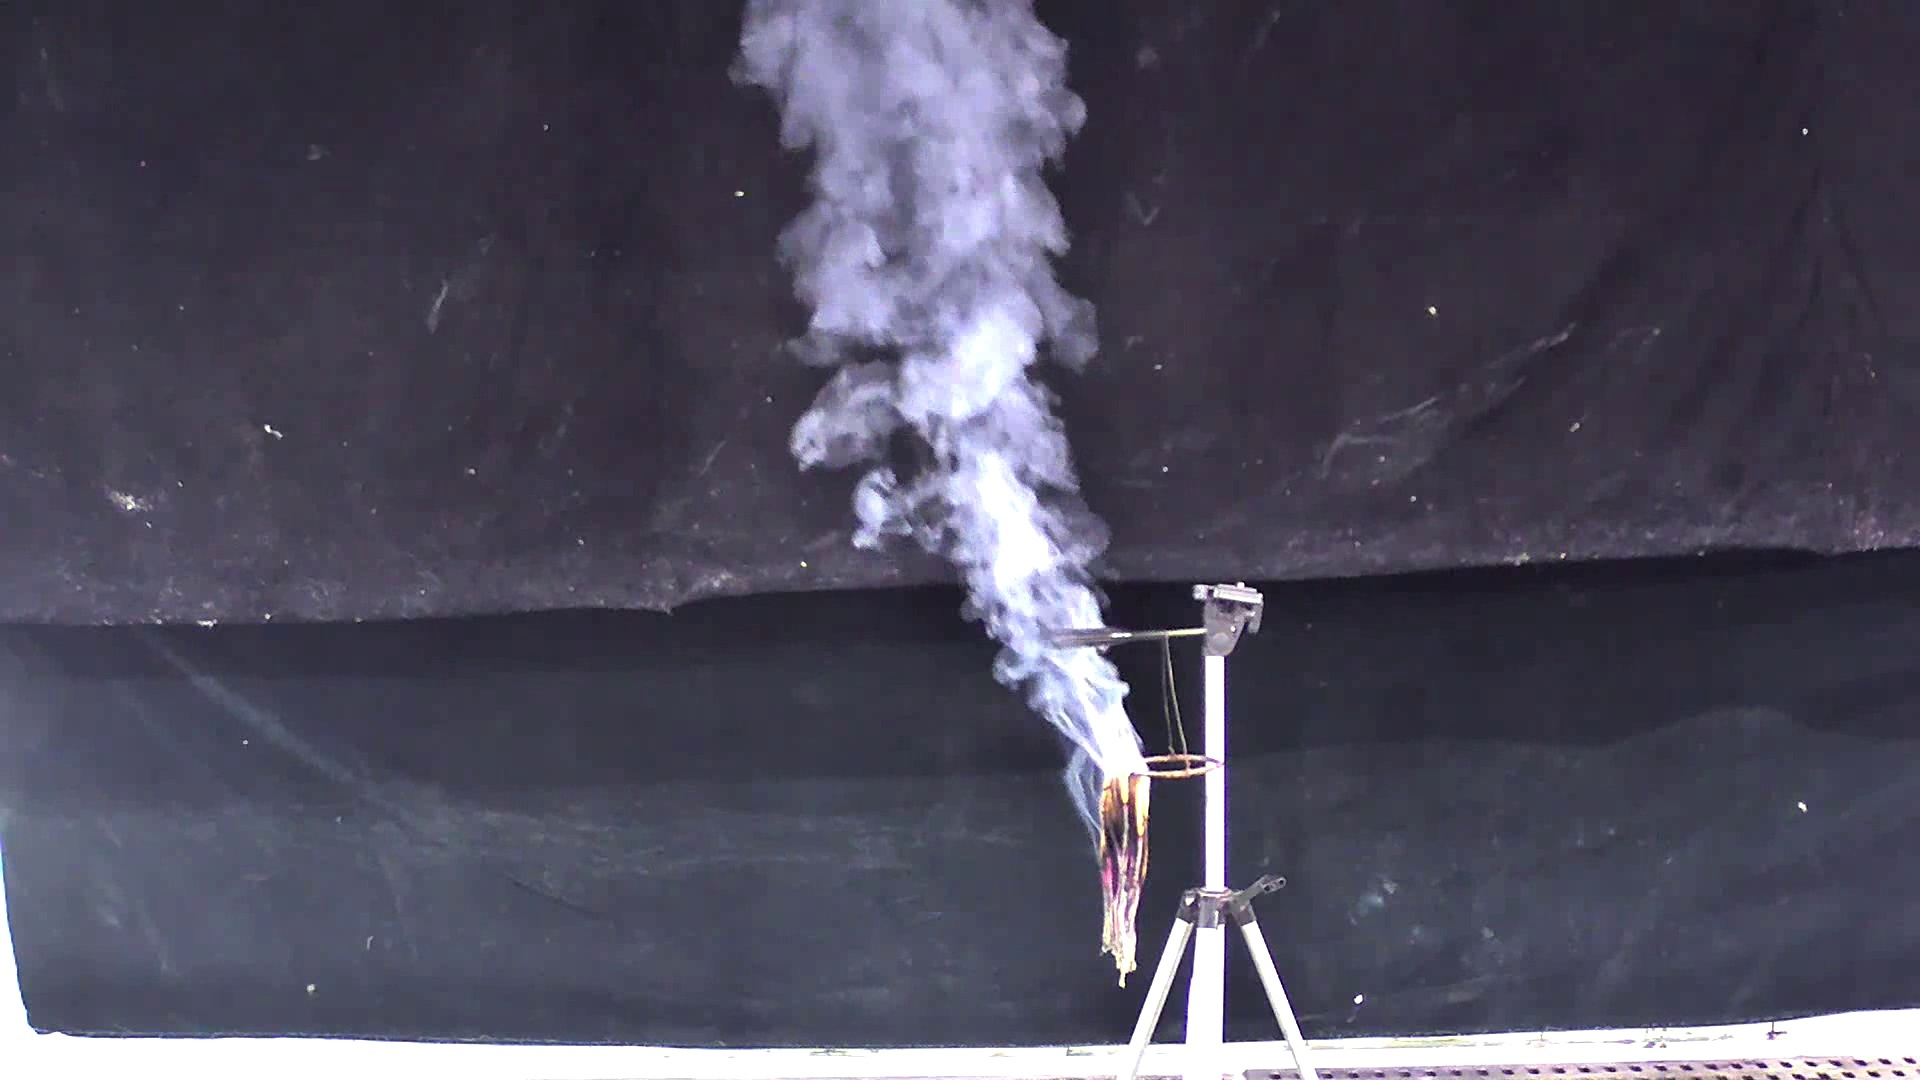smoke: (733, 16, 1164, 799)
